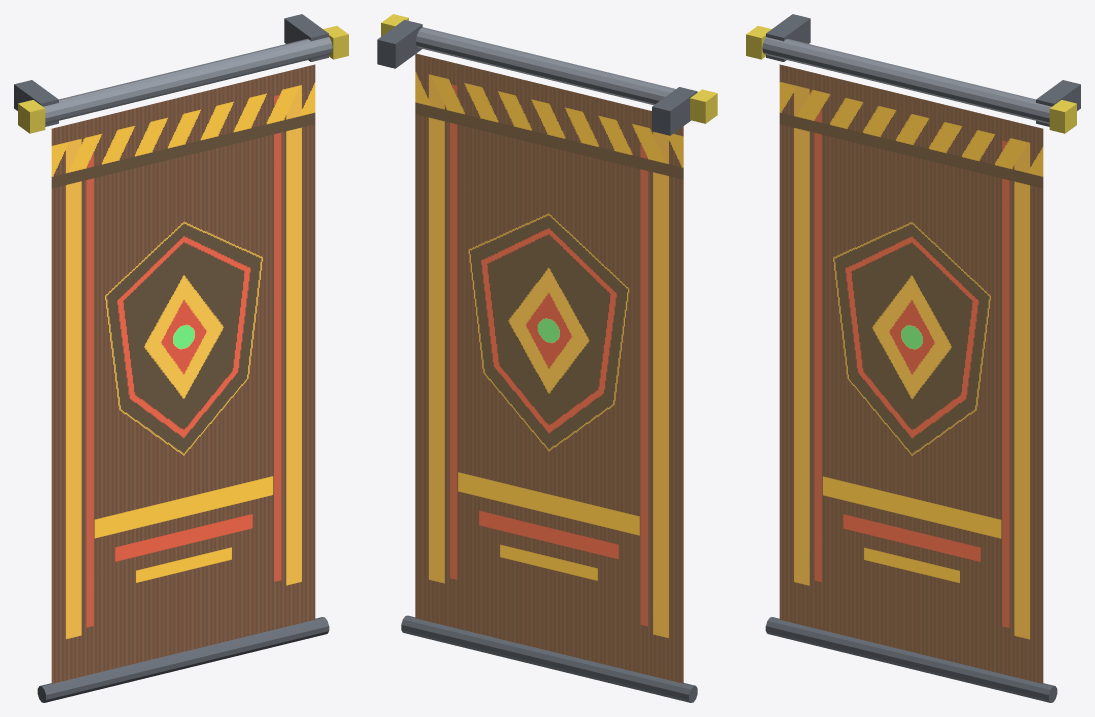
File: wall_catwalk_banner.glb
The picture shows the model from 3 angles, left to right: view 1: azimuth 30°, elevation 25°; view 2: azimuth 150°, elevation 25°; view 3: azimuth 330°, elevation 25°; orthographic projection.
Parts seen in each view (by area): view 1: WallCatwalkBanner; view 2: WallCatwalkBanner; view 3: WallCatwalkBanner.
Part boxes in pixels (x1,y1,x2,y2): WallCatwalkBanner: (14,14,348,702); WallCatwalkBanner: (377,14,717,702); WallCatwalkBanner: (746,14,1080,702).
Bounding box in the file's own units: 2.48 × 4.46 × 0.42.
4 materials, 1 textured.
